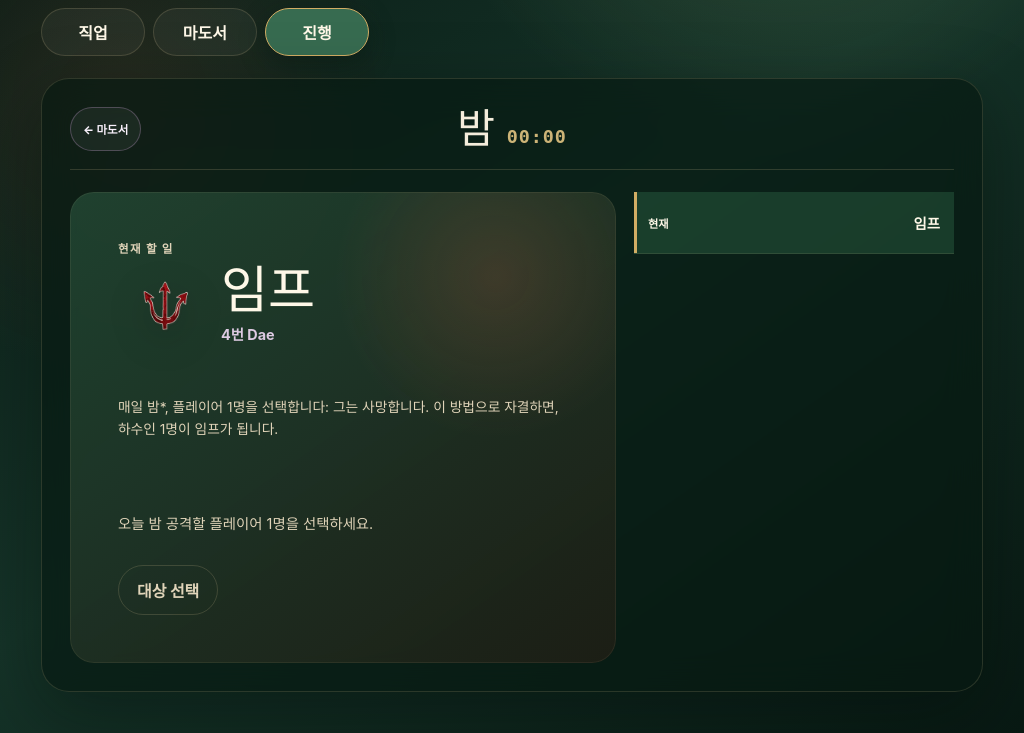
uses attack semantics and a distinct attack highlight for the Imp
(page scrolled)
Click the button "대상 선택". click: x=168, y=590
box: [118,565,218,615]
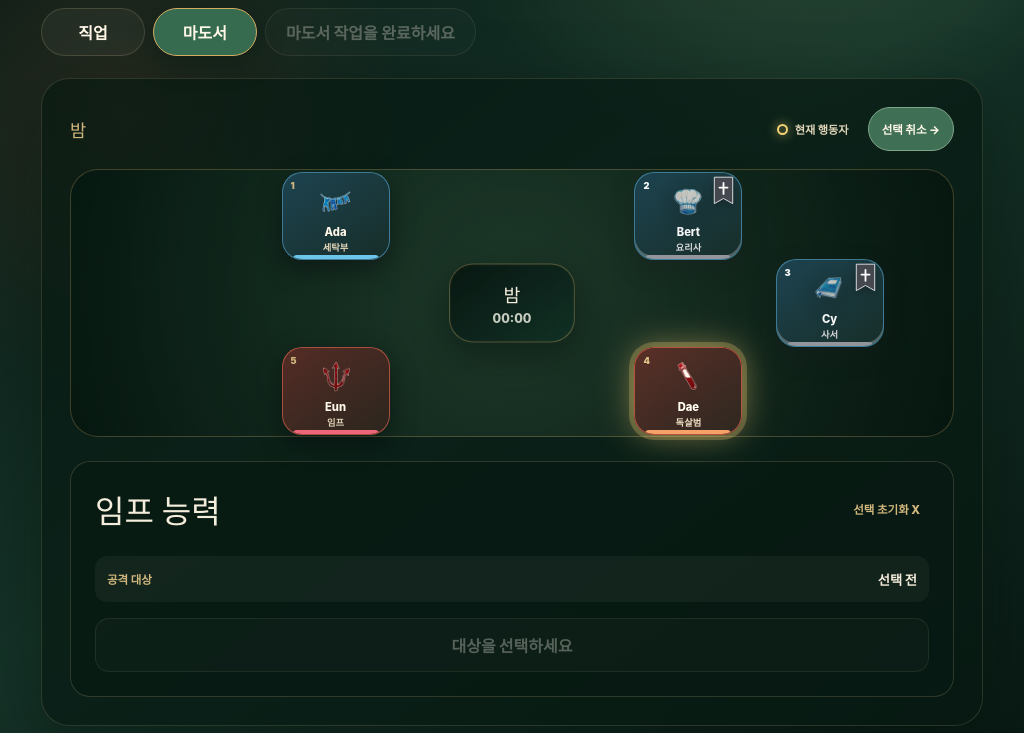
Click the button with aria-label "1번 좌석, Ada". click: x=336, y=216
box: [282,172,390,260]
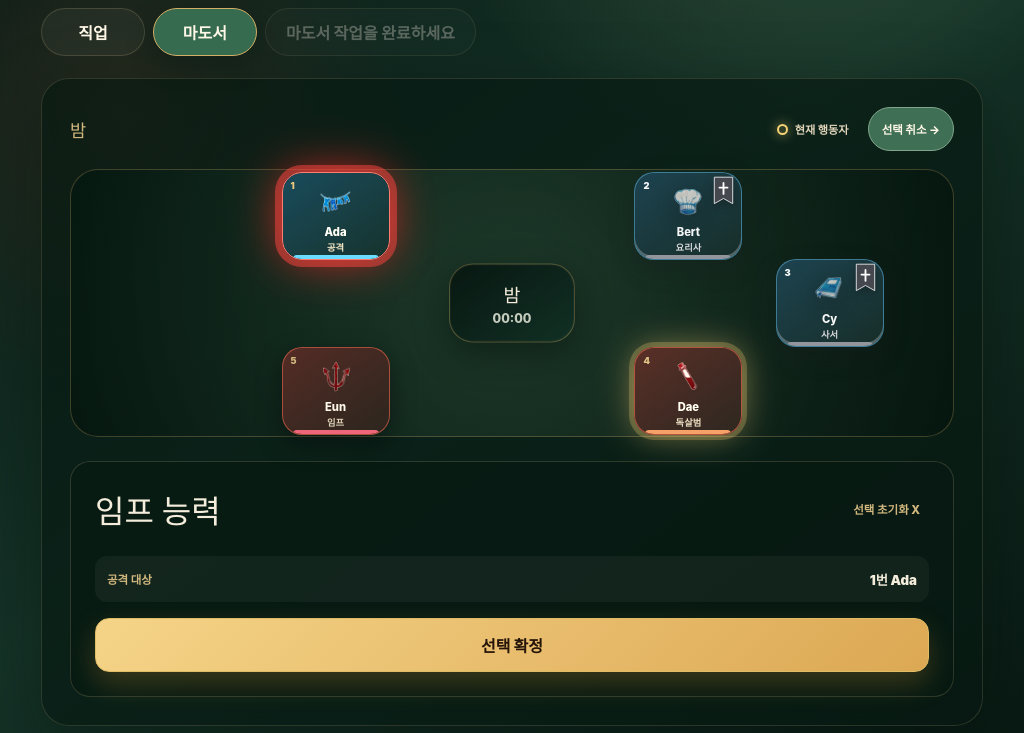
Expected: the heading "임프 능력" is shown, [95,486,221,532]
Expected: the text "공격 대상" is shown, [107,571,152,587]
Expected: the text "공격" is shown, [327,242,344,253]
